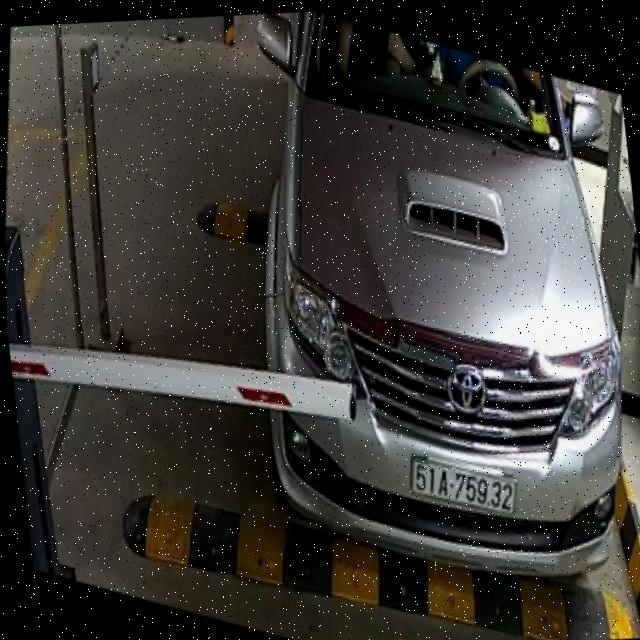car: (223, 8, 640, 609)
plate: (403, 445, 521, 527)
